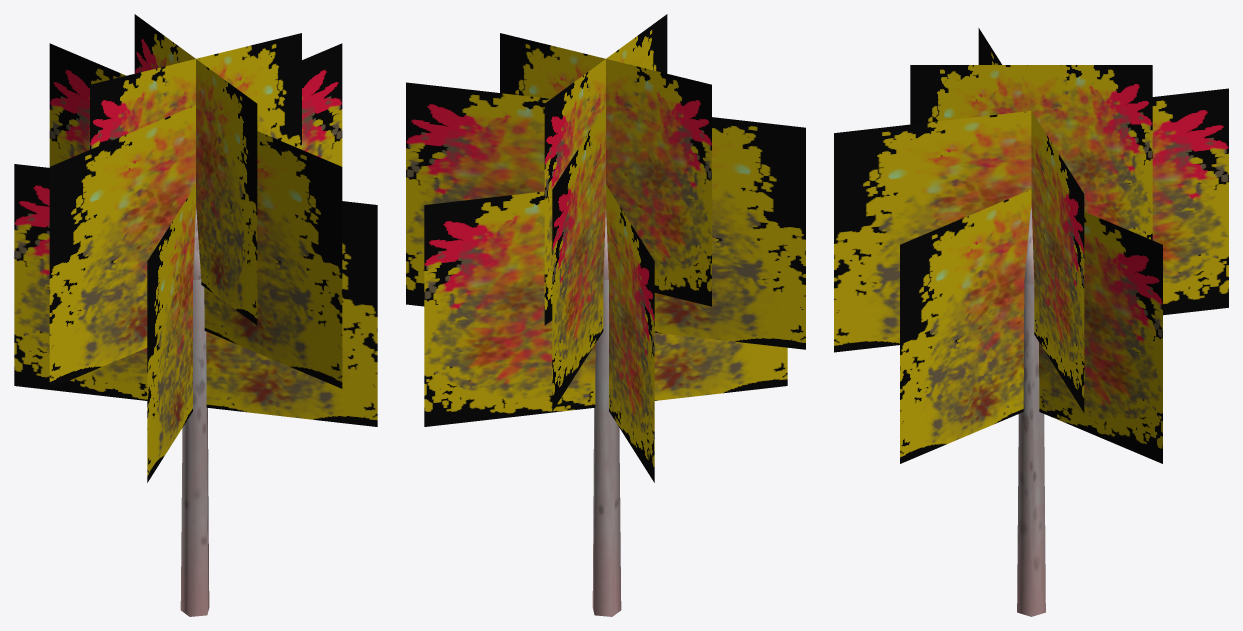
The model's file is birch-tree.fbx.
The picture shows the model from 3 angles, left to right: view 1: azimuth 30°, elevation 25°; view 2: azimuth 150°, elevation 25°; view 3: azimuth 270°, elevation 25°; orthographic projection.
Visible parts, largest first — view 1: BirchTree; view 2: BirchTree; view 3: BirchTree.
Boxes of the visible parts, box(x1,y1,x2,y2) form: BirchTree: box(14, 14, 377, 616); BirchTree: box(406, 14, 805, 616); BirchTree: box(834, 28, 1228, 616).
Size of the model in its own units: 10.79 by 16.45 by 10.79.
1 material, 1 textured.
